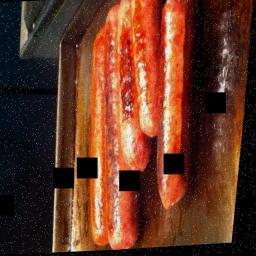hotdog: (152, 0, 201, 214), (87, 32, 129, 248), (108, 102, 152, 250), (115, 0, 156, 156), (81, 3, 119, 161), (102, 12, 135, 174), (137, 0, 168, 134), (101, 2, 133, 95), (129, 0, 154, 78), (114, 0, 136, 87), (128, 132, 154, 174)
